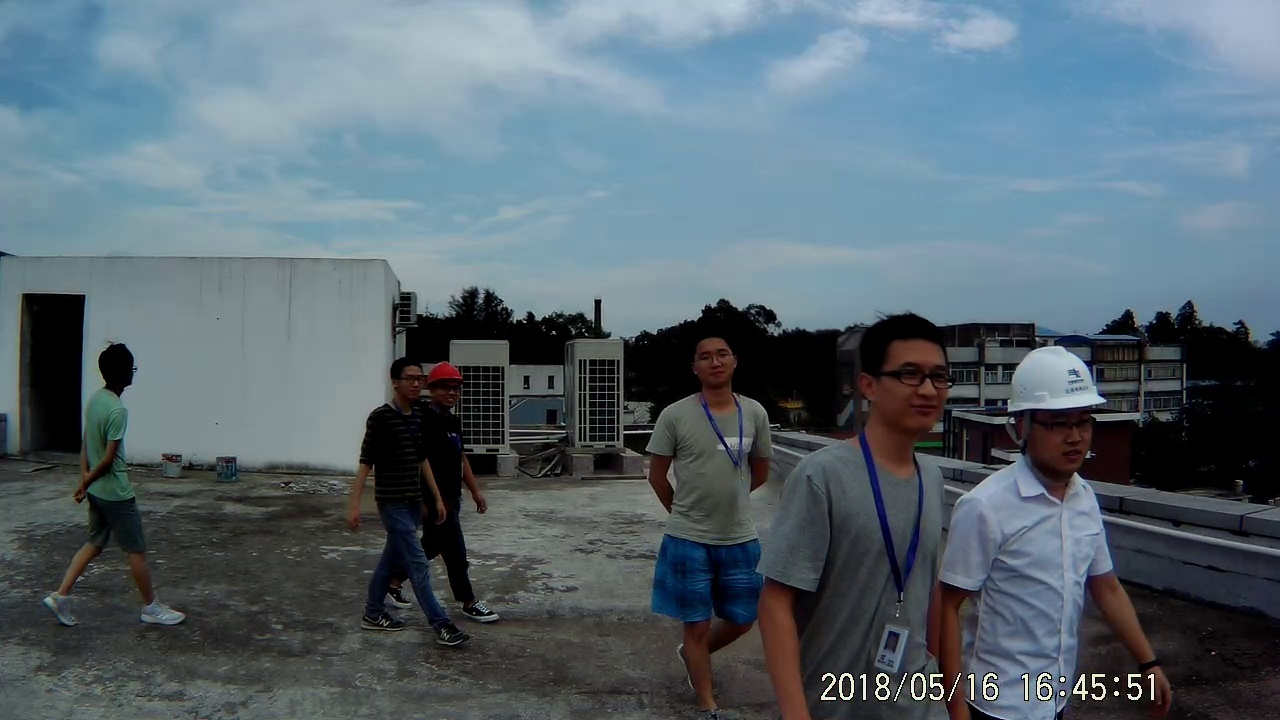none: (852, 306, 953, 444), (682, 322, 744, 395), (95, 341, 141, 398), (388, 352, 425, 406)
red: (424, 356, 462, 414)
white: (1005, 336, 1103, 484)
